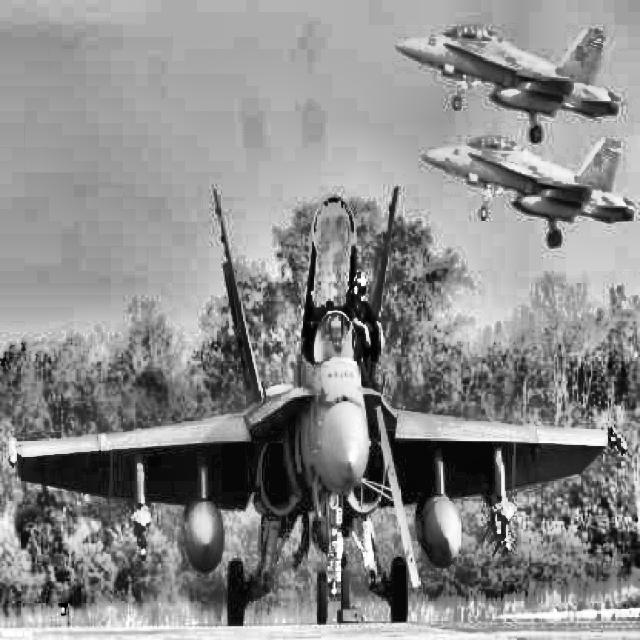F18: (8, 185, 627, 626), (394, 24, 629, 144), (421, 134, 640, 248)
